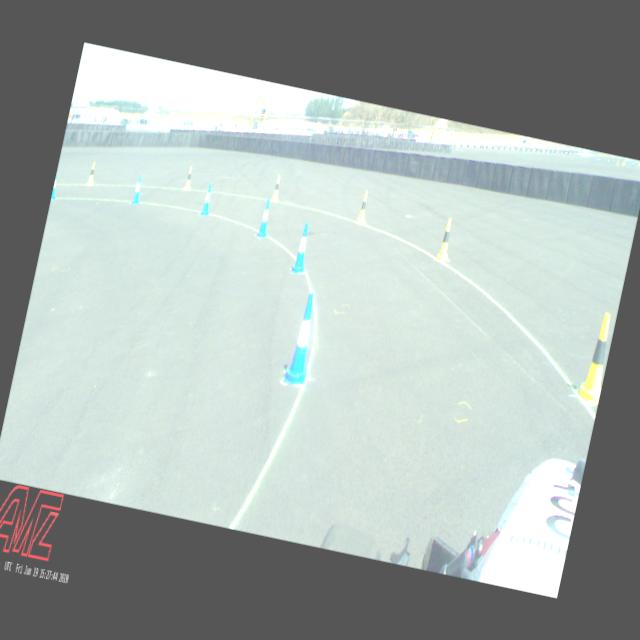blue_cone: (282, 290, 324, 386), (290, 220, 314, 274), (255, 196, 274, 238), (200, 182, 214, 217), (130, 174, 144, 204), (50, 173, 60, 200)
yellow_cone: (574, 309, 616, 405), (435, 216, 456, 262), (356, 190, 370, 223), (270, 174, 282, 202), (86, 162, 98, 186), (183, 166, 194, 190)
